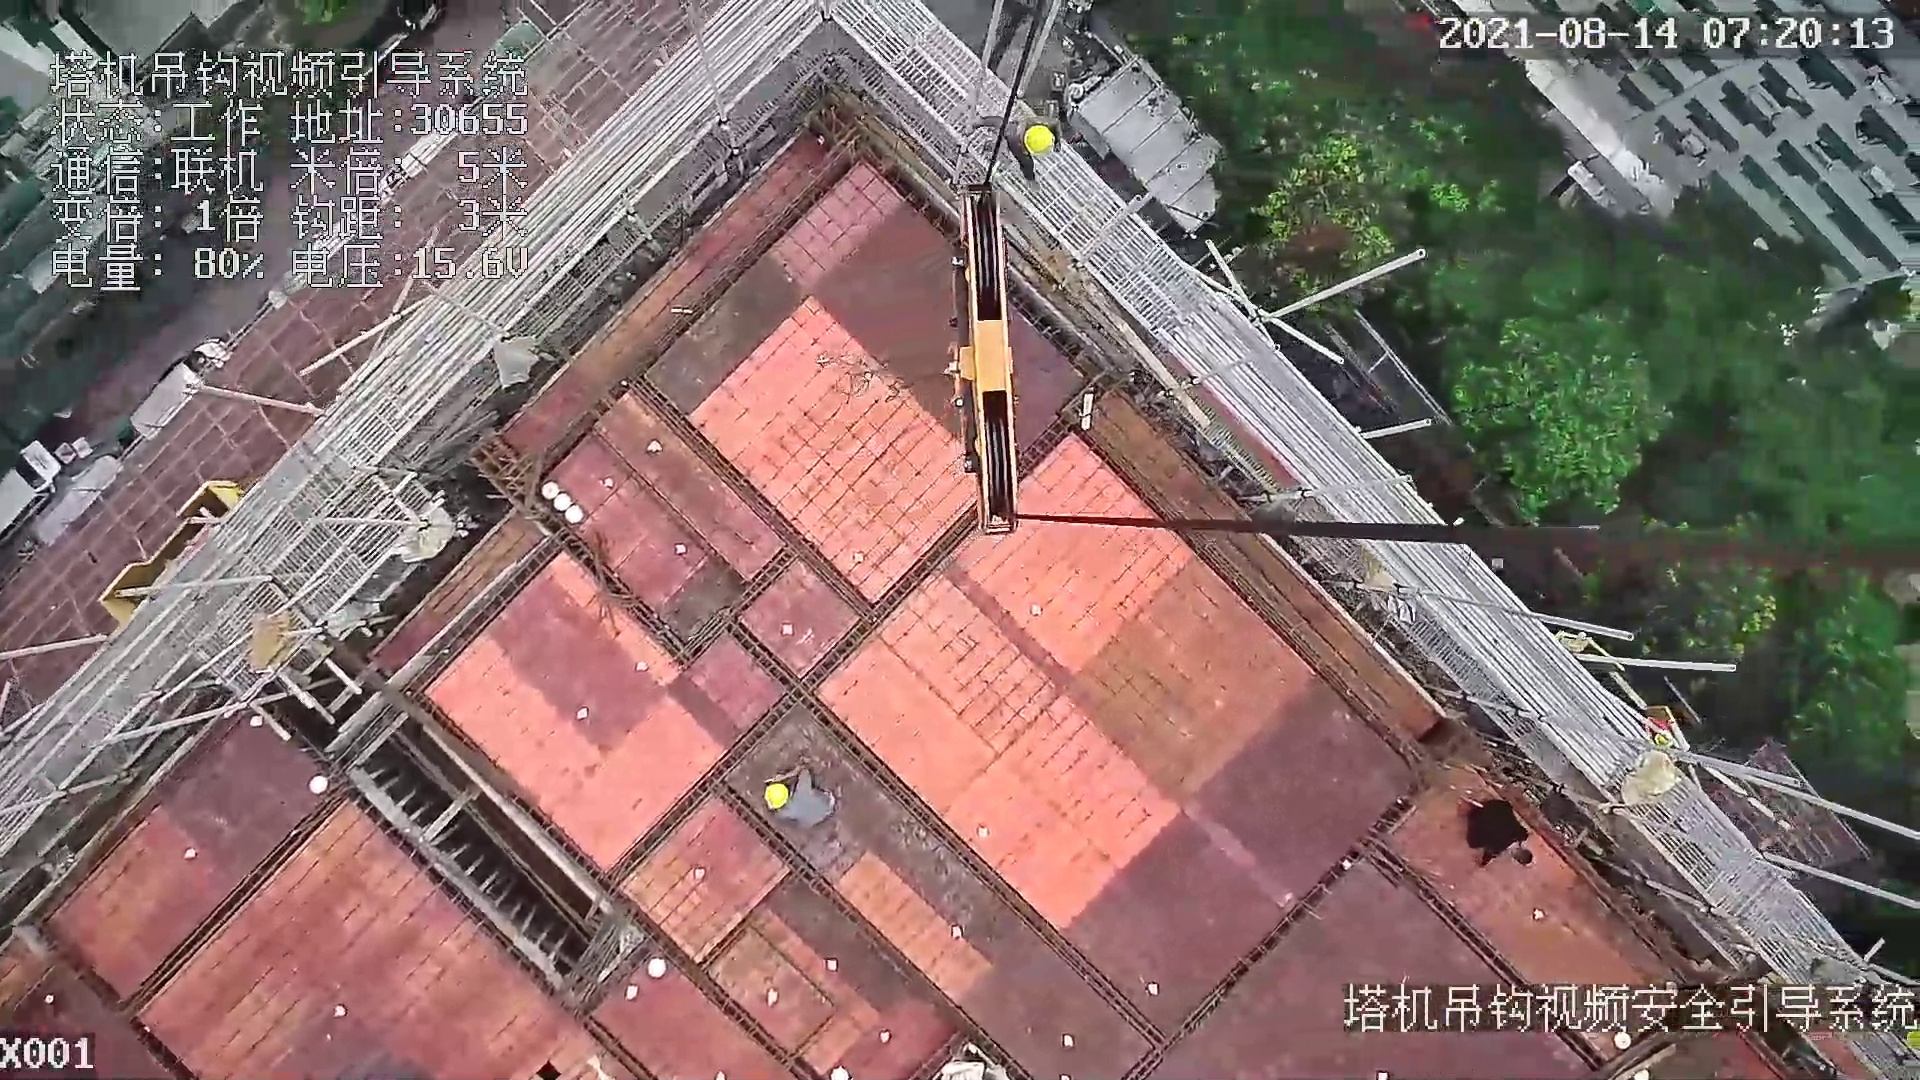helmet: (1018, 122, 1055, 157), (760, 779, 793, 813)
hook: (933, 177, 1055, 541)
person: (978, 100, 1064, 181), (758, 762, 850, 831)
